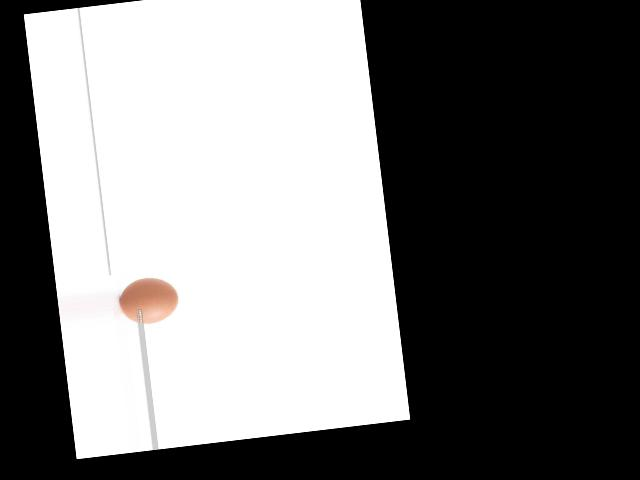egg: (118, 275, 180, 327)
